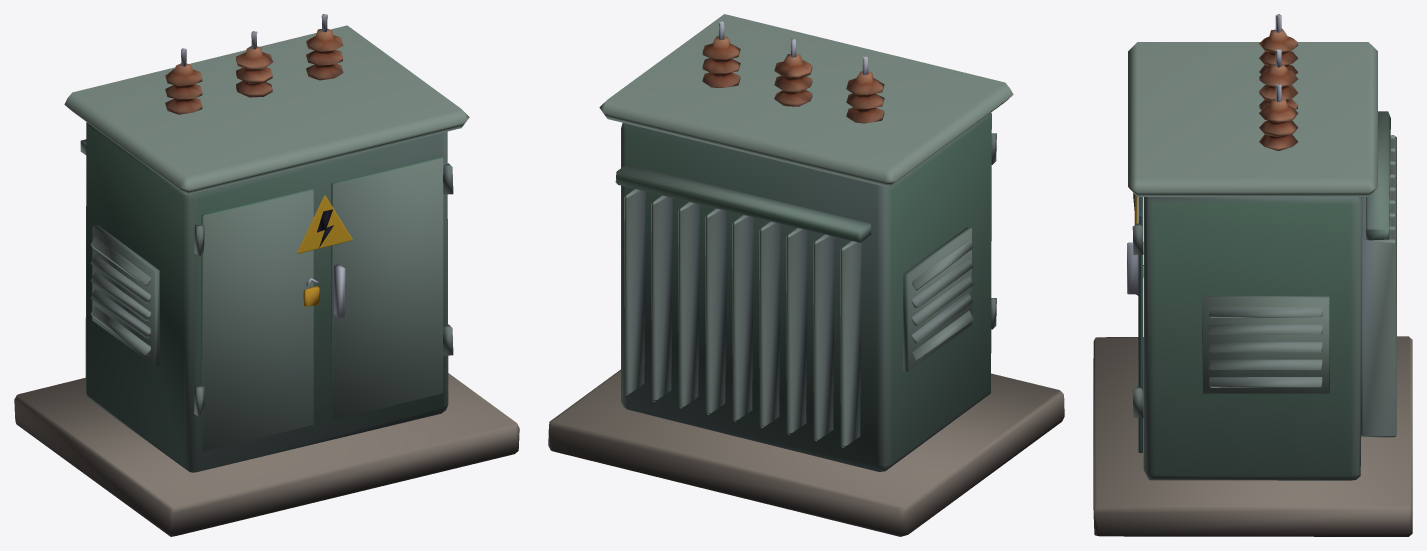
File: transformateur.glb
3 views of the same model, side by side, from view 1: azimuth 30°, elevation 25°; view 2: azimuth 150°, elevation 25°; view 3: azimuth 270°, elevation 25° (orthographic). The views are drawn at different scales.
Visible parts, largest first — view 1: transformateur; view 2: transformateur; view 3: transformateur.
Part boxes in pixels (x1=…): transformateur: x1=14, y1=14, x2=519, y2=536; transformateur: x1=548, y1=14, x2=1064, y2=536; transformateur: x1=1093, y1=14, x2=1412, y2=536.
Size of the model in its own units: 1.59 by 1.72 by 1.24.
